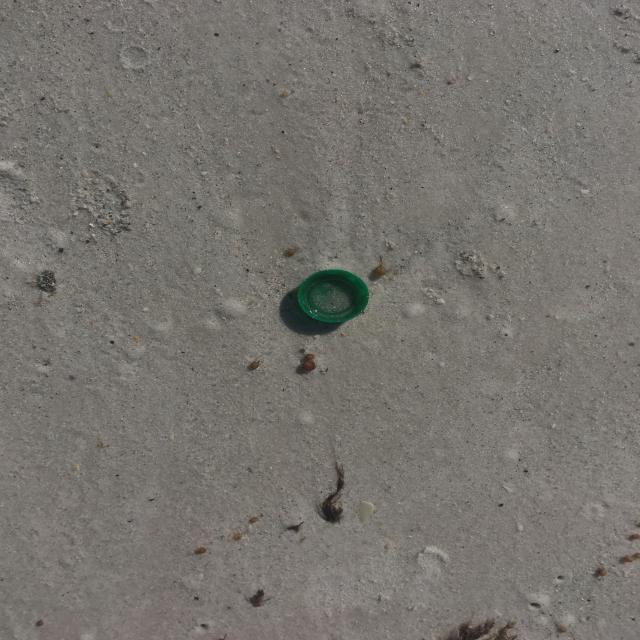litter: (297, 269, 370, 322)
